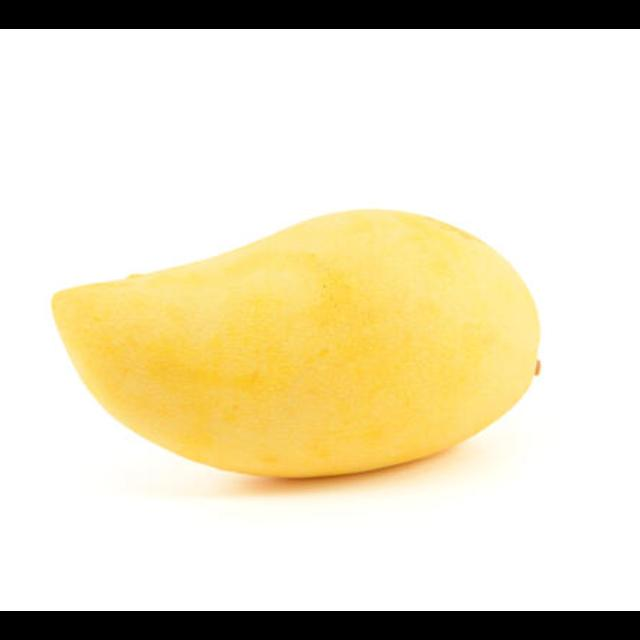mango: (46, 206, 544, 480)
